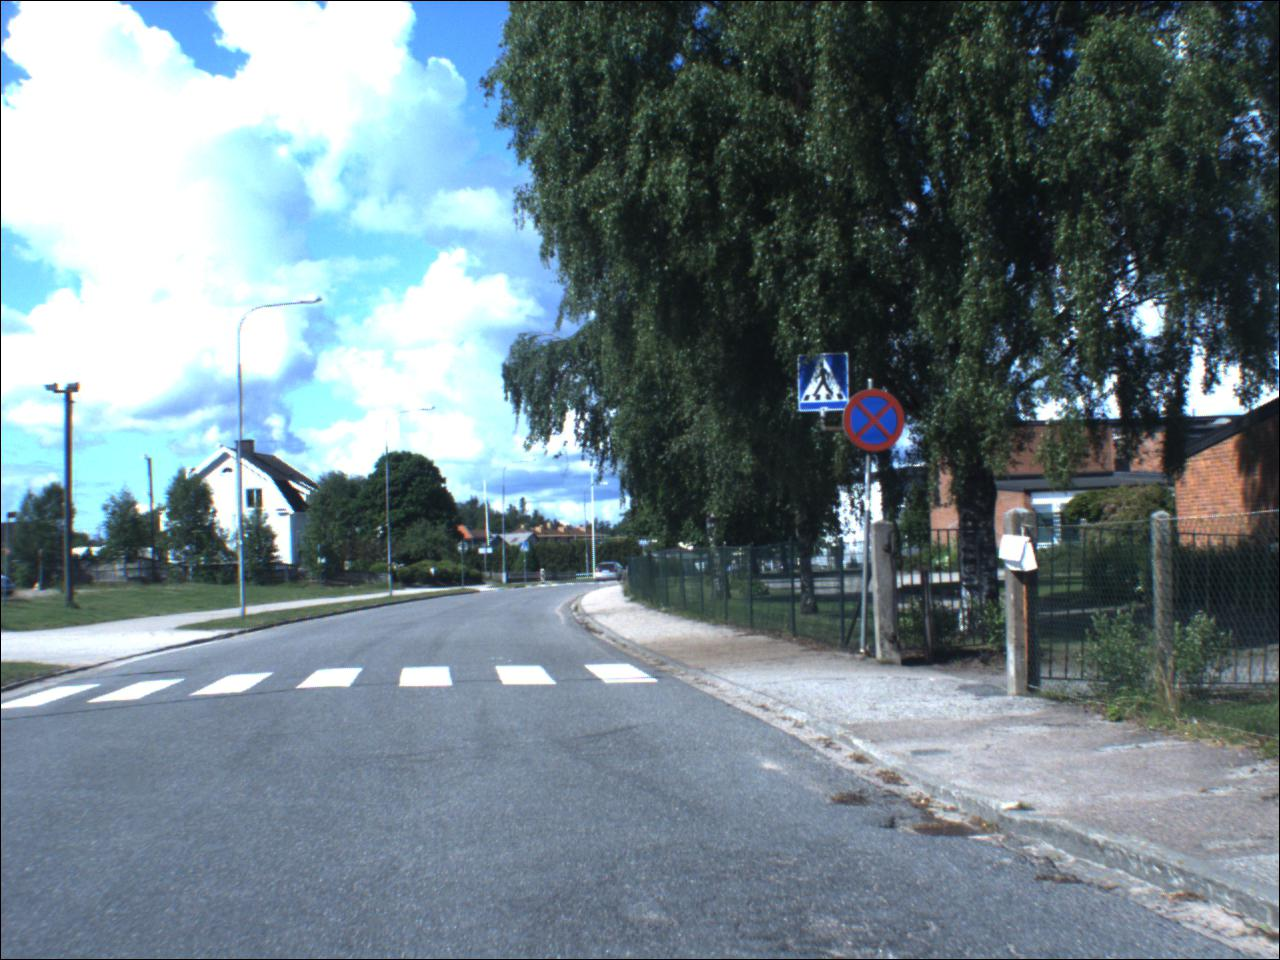NO_STOPPING_NO_STANDING: (844, 391, 906, 455)
PEDESTRIAN_CROSSING: (799, 353, 852, 415), (522, 543, 532, 554)
